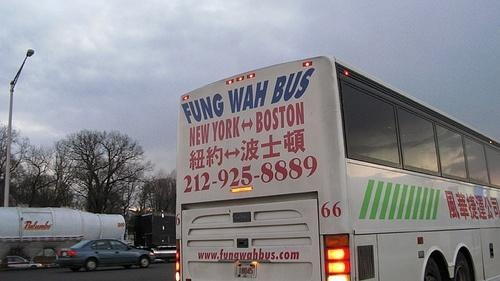bus: (176, 55, 500, 280)
car: (55, 237, 155, 272), (5, 257, 45, 270)
